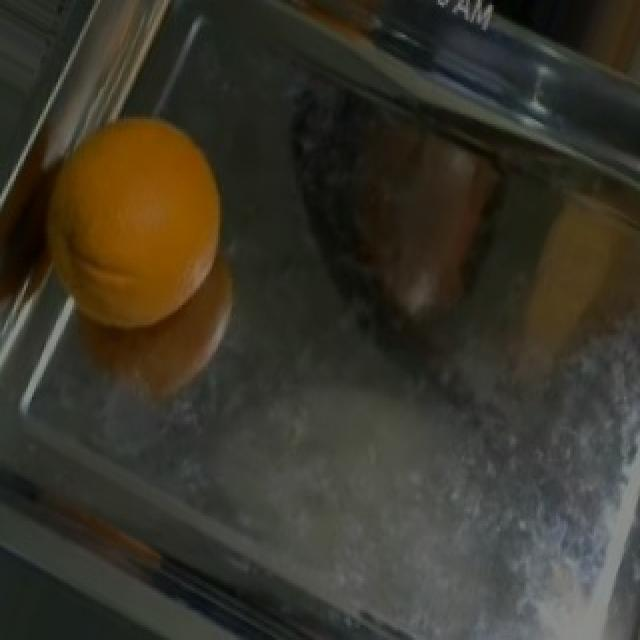Fruit: (6, 96, 252, 354)
